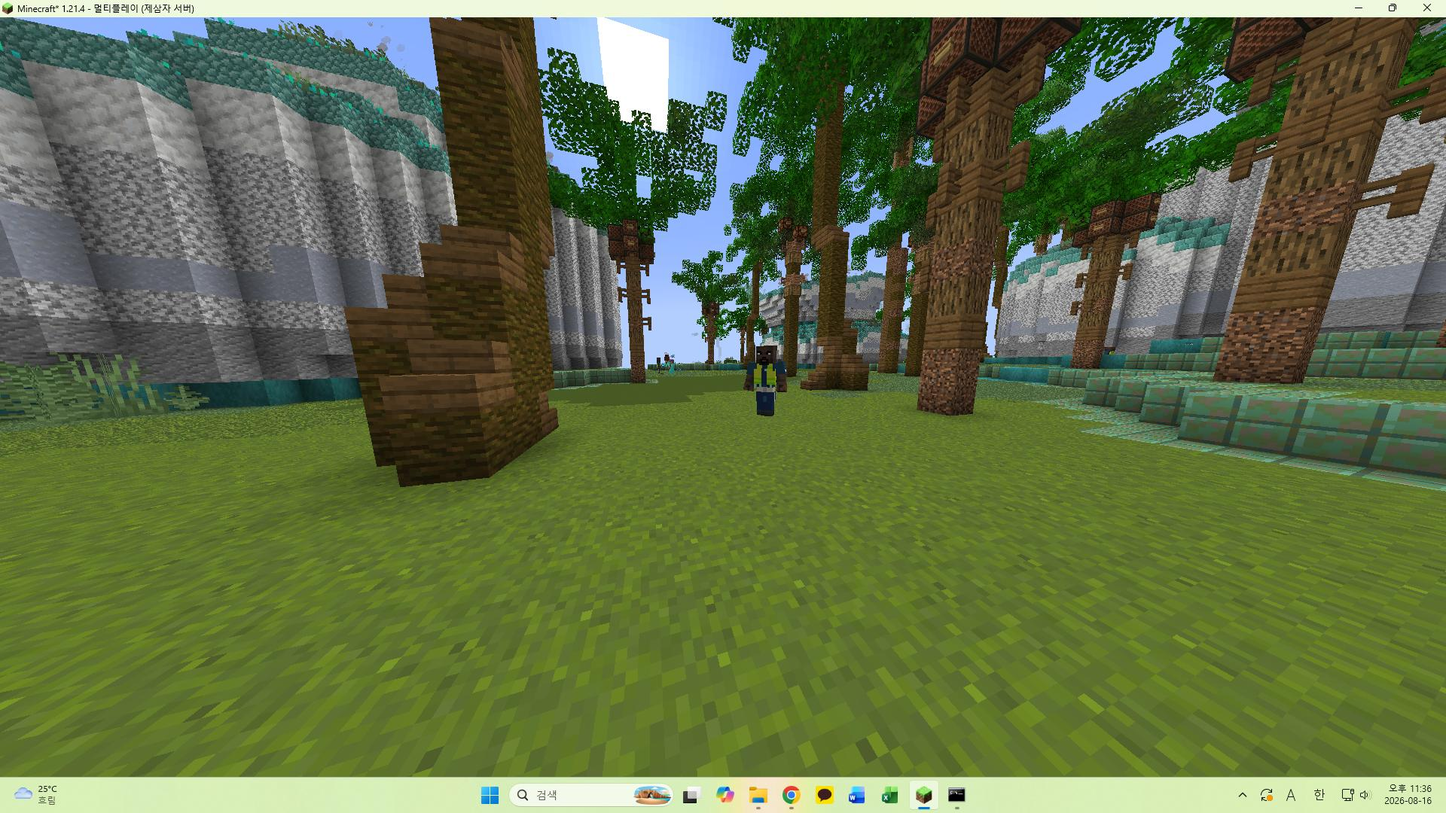Guardian: (744, 345, 787, 416)
